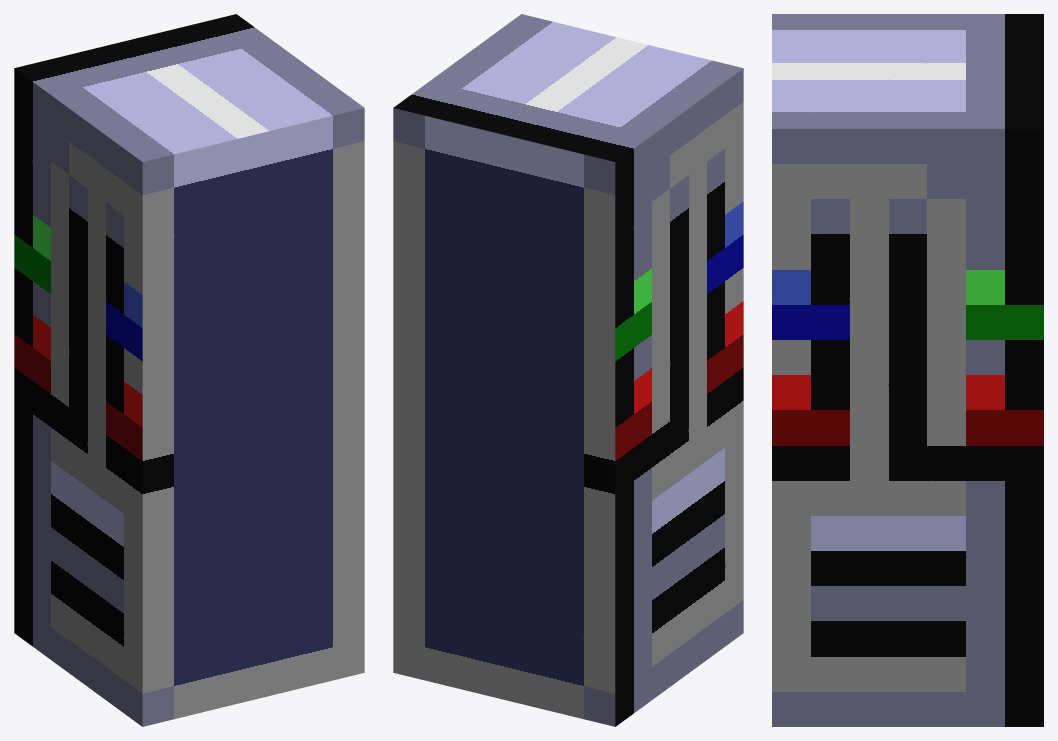
File: hitek_tile_035.gltf
The picture shows the model from 3 angles, left to right: view 1: azimuth 30°, elevation 25°; view 2: azimuth 150°, elevation 25°; view 3: azimuth 270°, elevation 25°; orthographic projection. The views are drawn at different scales.
Parts seen in each view (by area): view 1: hitek_tile_035; view 2: hitek_tile_035; view 3: hitek_tile_035.
Boxes of the visible parts, <box> form: hitek_tile_035: <box>14,14,364,726</box>; hitek_tile_035: <box>393,14,743,726</box>; hitek_tile_035: <box>772,14,1043,726</box>.
Size of the model in its own units: 4.67 by 11.33 by 4.67.
1 material, 1 textured.
